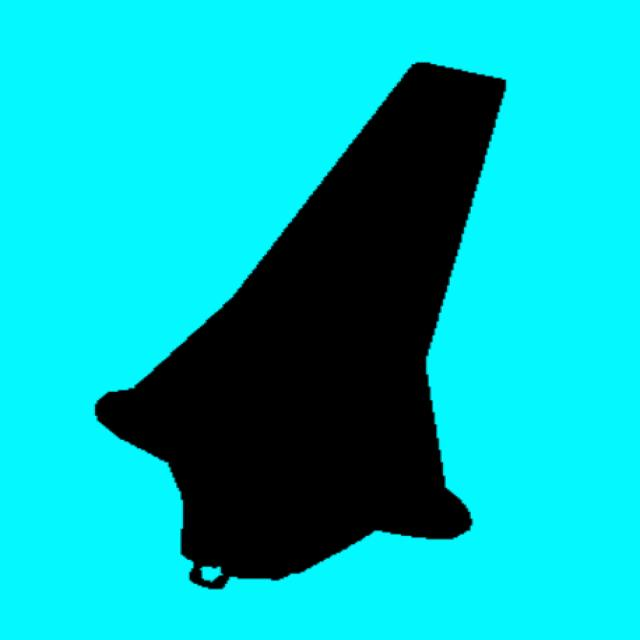BlackBuoy: (96, 64, 504, 587)
